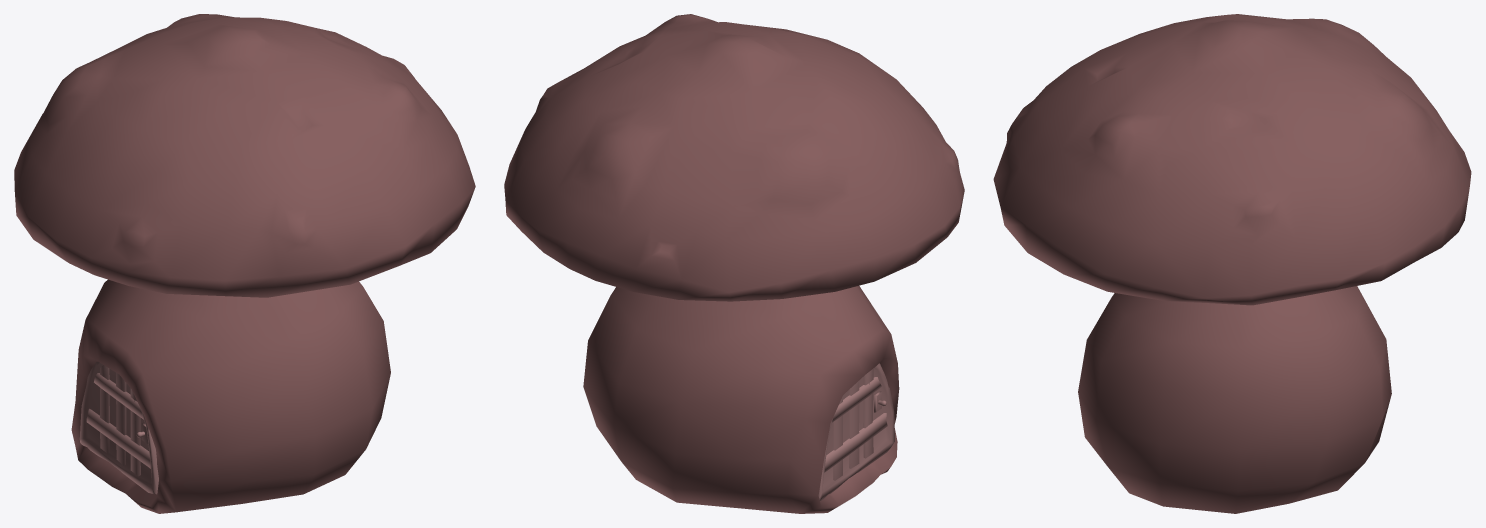
File: Geo_MushHouse_1.fbx
The picture shows the model from 3 angles, left to right: view 1: azimuth 30°, elevation 25°; view 2: azimuth 150°, elevation 25°; view 3: azimuth 270°, elevation 25°; orthographic projection. The views are drawn at different scales.
Visible parts, largest first — view 1: Geo_MushDoor1, Geo_MushHouse1; view 2: Geo_MushDoor1, Geo_MushHouse1; view 3: Geo_MushDoor1.
Boxes of the visible parts, x1,y1,x2,y2 form: Geo_MushDoor1: (14,14,475,513); Geo_MushHouse1: (79,361,158,494); Geo_MushDoor1: (504,14,964,513); Geo_MushHouse1: (818,363,894,500); Geo_MushDoor1: (993,14,1471,513).
Bounding box in the file's own units: 796 × 816 × 785.
